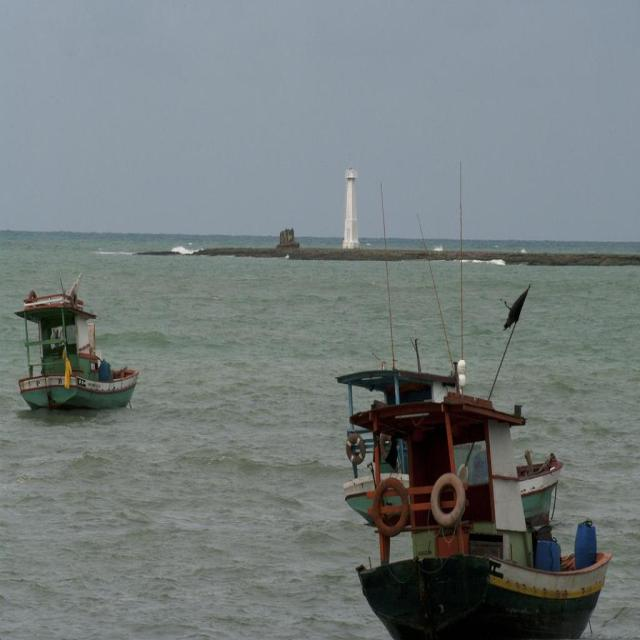Boat: (333, 268, 626, 620), (18, 276, 138, 412)
